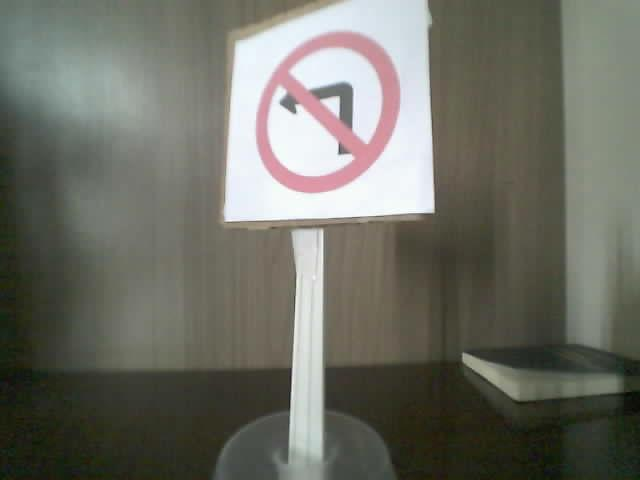R-4a_proibido-esquerda: (254, 30, 398, 194)
